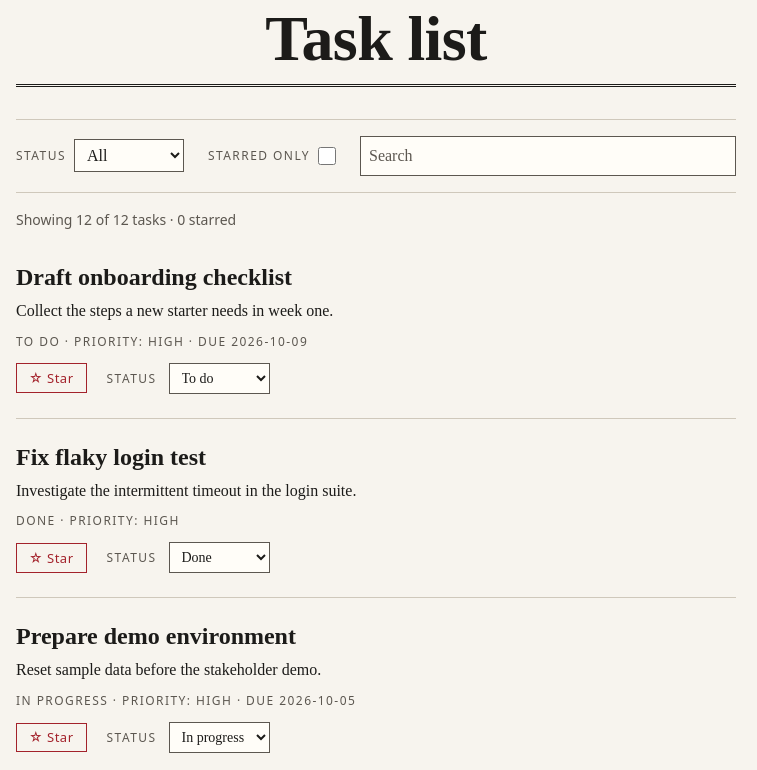
Scenario: App › shows the existing empty-state message when the search matches nothing (SDLC-13 AC5)
Type "releasenotes" into the search field labelled "Search" at coordinates (548, 156), box [360,136,736,176]
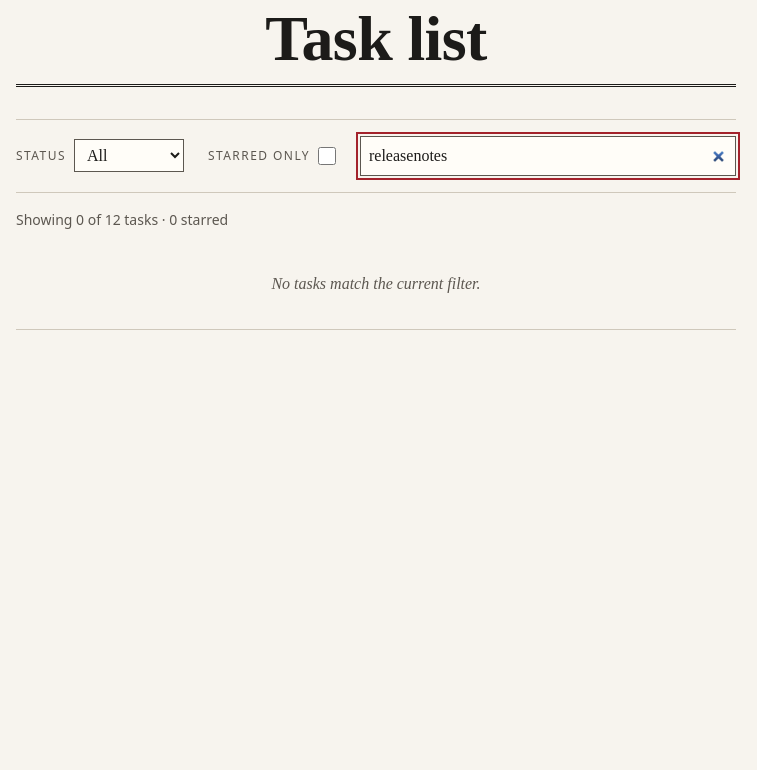
Expected: the message reads "No tasks match the current filter.", [271,275,481,292]
